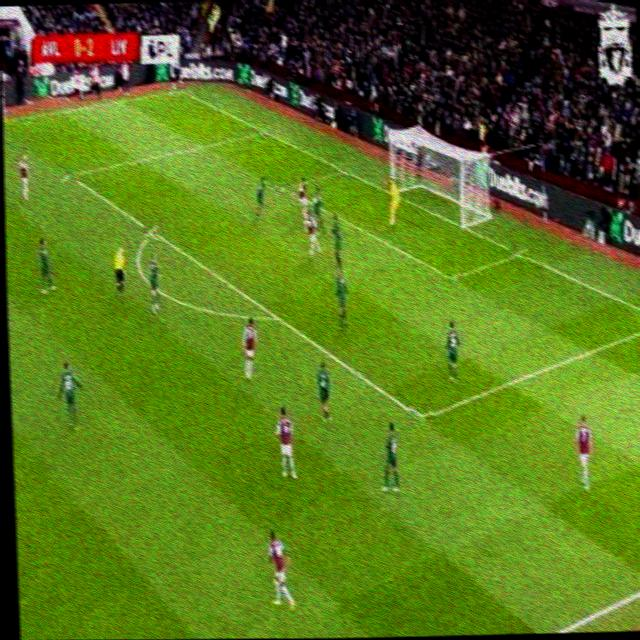bigarea_bottom_inner: (409, 403, 432, 431)
bigarea_top_inner: (60, 165, 77, 183)
bigarea_top_outter: (257, 122, 270, 138)
bottom_arc_area_intersection: (267, 305, 286, 327)
corner: (167, 82, 186, 96)
smallarea_bottom_inner: (441, 263, 460, 289)
smallarea_bottom_outter: (508, 241, 527, 263)
smallarea_top_inner: (274, 176, 291, 195)
smallarea_top_outter: (336, 161, 352, 178)
top_arc_area_intersection: (143, 222, 159, 239)
